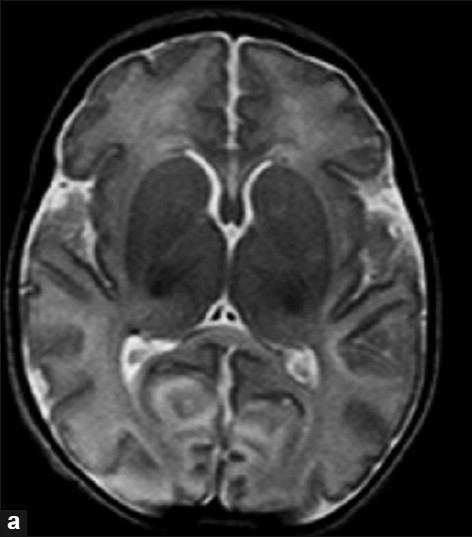Normal_Brain: (3, 3, 472, 537)
